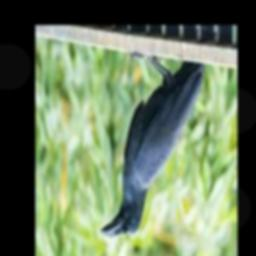Crow: (100, 26, 214, 238)
